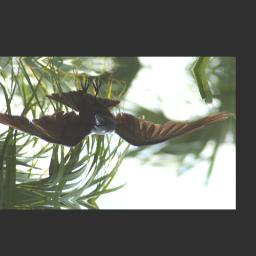Crow: (0, 73, 233, 158)
